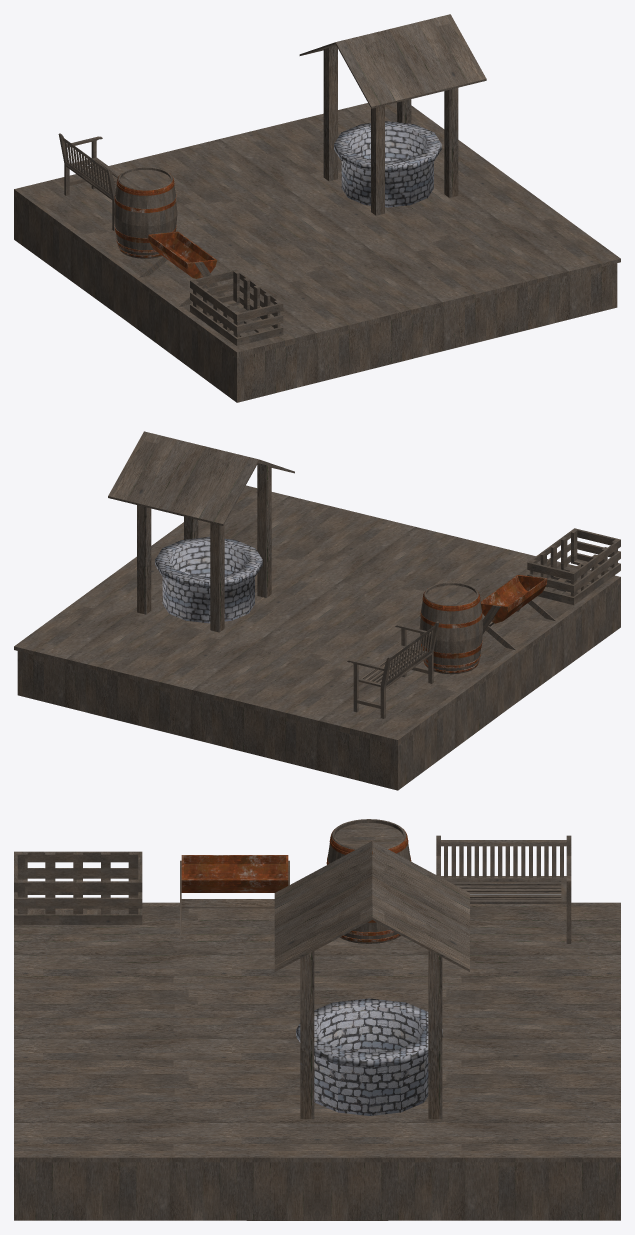
Rendered from oldwest_05.obj.
The picture shows the model from 3 angles, top to bottom: view 1: azimuth 30°, elevation 25°; view 2: azimuth 150°, elevation 25°; view 3: azimuth 270°, elevation 25°; orthographic projection. The views are drawn at different scales.
Visible parts, largest first — view 1: Cube.060, Cube.063, Cylinder, Cube.092, Circle, Cube.061, Cube.062, Cylinder.013, Base, Cube.028; view 2: Cube.060, Cube.063, Cylinder, Circle, Cube.092, Cube.062, Base, Cube.061, Cylinder.013, Cube.028, Cube.093, Bench_Boards; view 3: Cube.060, Cube.063, Cylinder, Cube.092, Cylinder.013, Base, Circle, Cube.062, Cube.061, Cube.028, Bench_Boards, Cube.093.
Part boxes in pixels (x1,y1,x2,y2): Cube.060: (14, 102, 620, 402); Cube.063: (299, 14, 486, 108); Cylinder: (334, 121, 441, 207); Cube.092: (190, 269, 283, 345); Circle: (114, 167, 177, 258); Cube.061: (371, 88, 458, 215); Cube.062: (323, 46, 411, 181); Cylinder.013: (148, 231, 217, 278); Base: (58, 133, 119, 230); Cube.028: (64, 142, 111, 193); Cube.060: (14, 485, 620, 790); Cube.063: (108, 431, 294, 525); Cylinder: (155, 537, 262, 623); Circle: (419, 582, 483, 674); Cube.092: (527, 528, 620, 604); Cube.062: (137, 505, 224, 632); Base: (347, 621, 439, 718); Cube.061: (184, 463, 271, 597); Cylinder.013: (480, 575, 547, 623); Cube.028: (386, 630, 432, 681); Cube.093: (482, 576, 556, 650); Bench_Boards: (361, 648, 423, 683); Cube.060: (14, 902, 620, 1220); Cube.063: (274, 841, 469, 971); Cylinder: (296, 998, 442, 1115); Cube.092: (14, 851, 142, 924); Cylinder.013: (181, 855, 288, 892); Base: (436, 835, 571, 943); Circle: (326, 819, 411, 943); Cube.062: (428, 950, 442, 1119); Cube.061: (300, 951, 314, 1119); Cube.028: (444, 846, 563, 877); Bench_Boards: (455, 885, 561, 899); Cube.093: (180, 860, 289, 935).
Bounding box in the file's own units: 4.14 × 2.14 × 4.16.
Materials: 3 (3 with a texture image).
